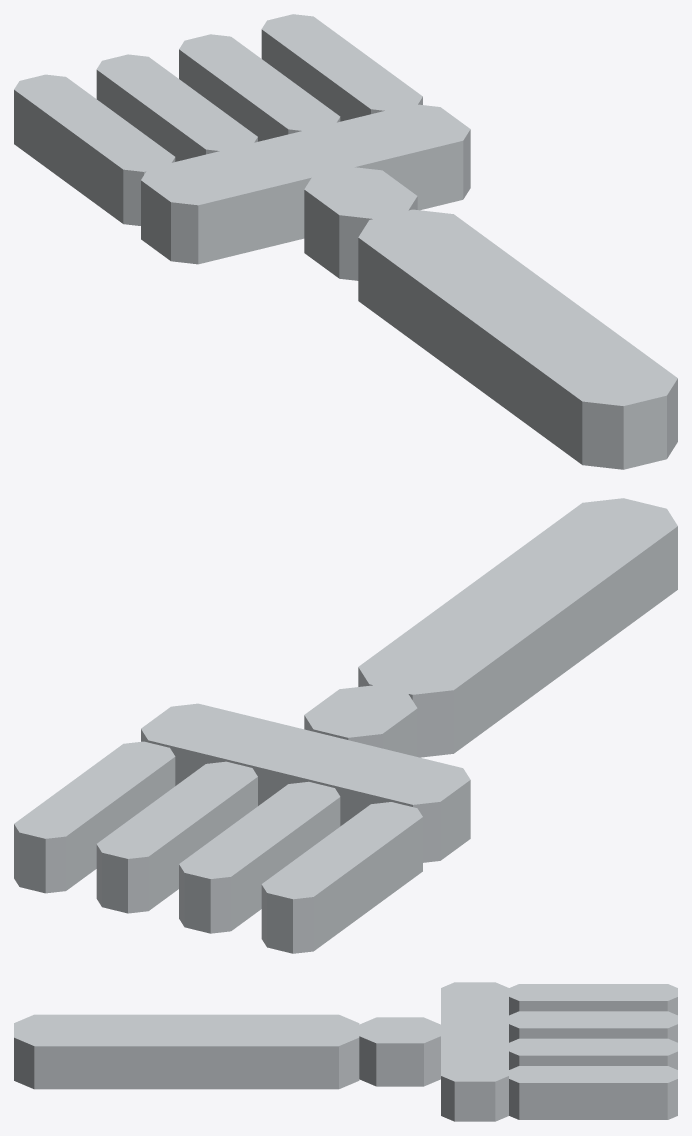
Rendered from SM_LPI_Ware_Fork_01.fbx.
The picture shows the model from 3 angles, top to bottom: view 1: azimuth 30°, elevation 25°; view 2: azimuth 150°, elevation 25°; view 3: azimuth 270°, elevation 25°; orthographic projection. The views are drawn at different scales.
Visible parts, largest first — view 1: SM_LPI_Ware_Fork_01; view 2: SM_LPI_Ware_Fork_01; view 3: SM_LPI_Ware_Fork_01.
Boxes of the visible parts, <box> form: SM_LPI_Ware_Fork_01: <box>14,14,677,469</box>; SM_LPI_Ware_Fork_01: <box>14,498,677,953</box>; SM_LPI_Ware_Fork_01: <box>14,982,677,1121</box>.
Size of the model in its own units: 0.069 by 0.014 by 0.195.
